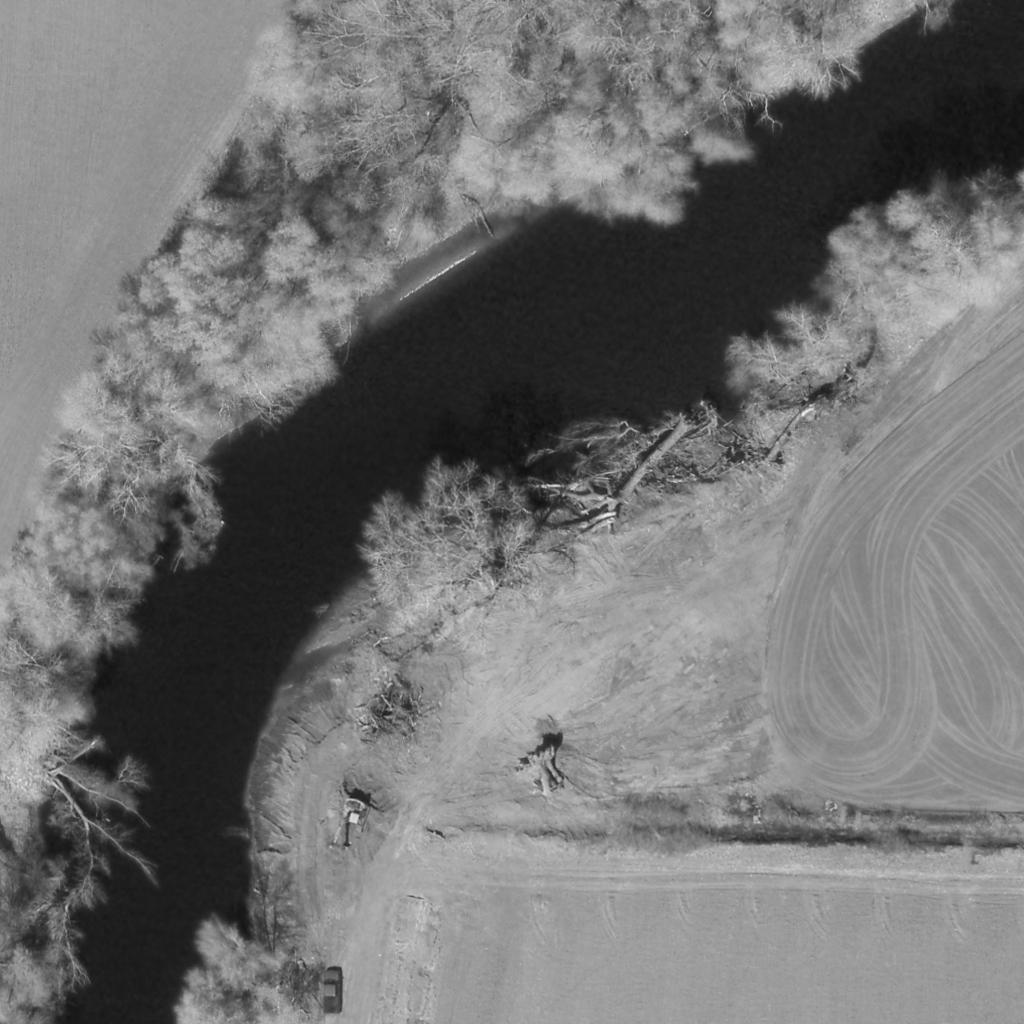vehicle: (326, 799, 372, 857), (323, 967, 343, 1015)
